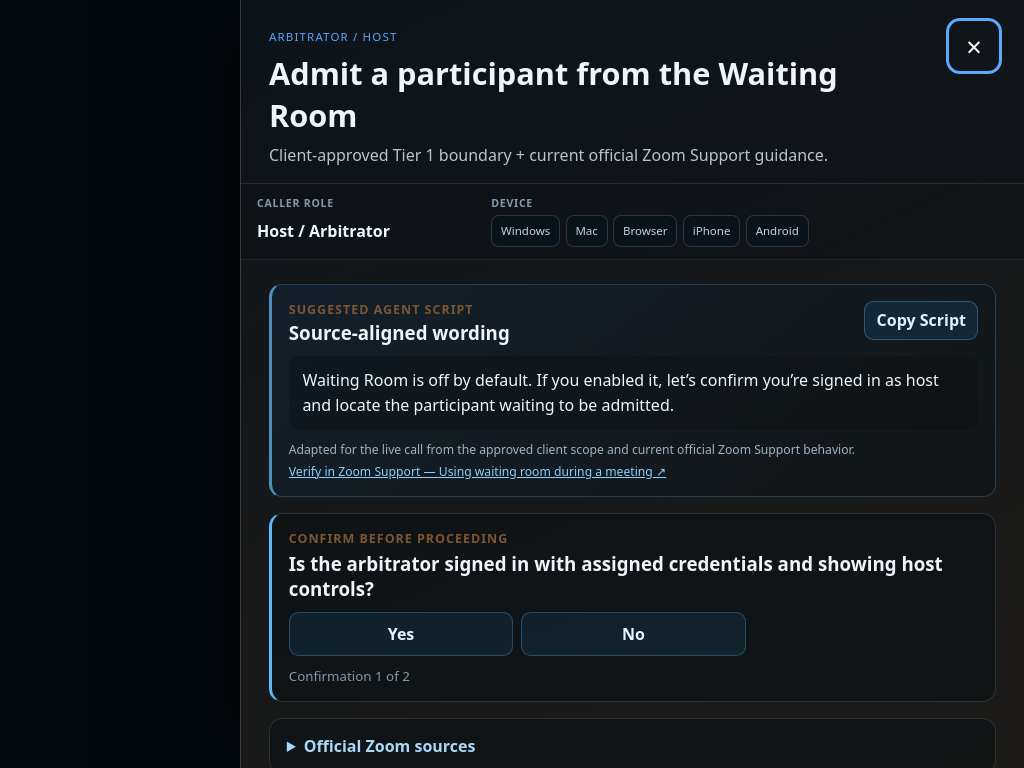
Test: requires Host confirmation before showing troubleshooting
The width and height of the screenshot is (1024, 768).
Expected: the text "Confirm before proceeding" is shown, [289,530,508,547]
Click the button "Yes": (401, 634) [289,612,513,656]
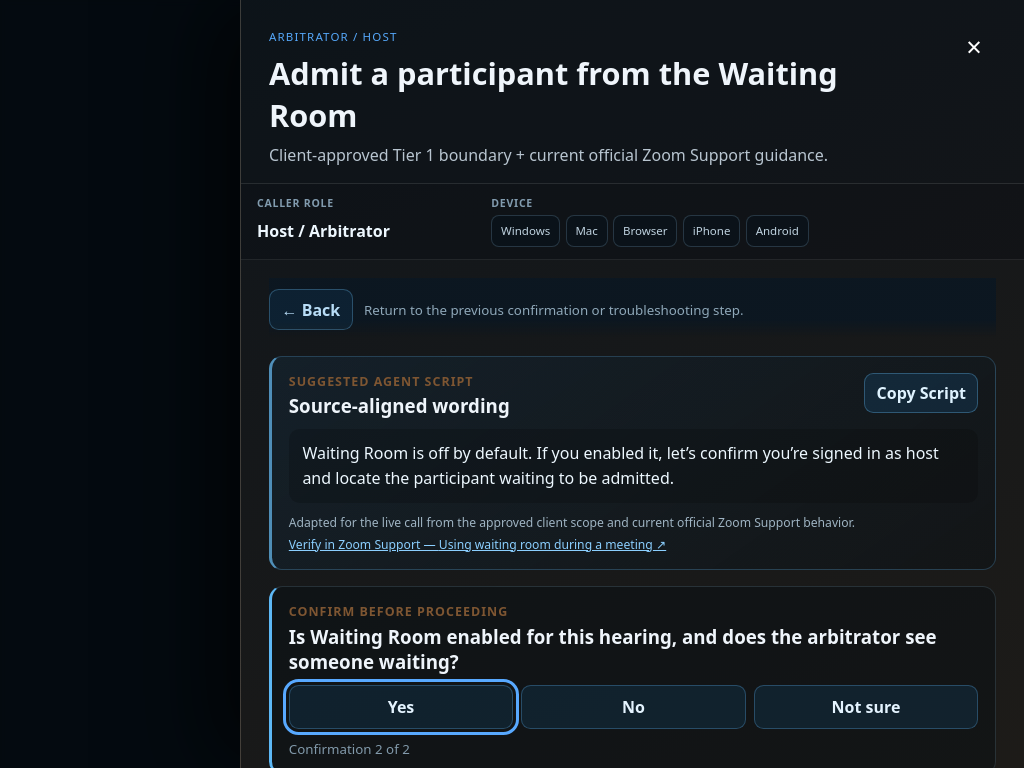
Result: the heading "Is Waiting Room enabled" is shown at [289,624,937,674]
